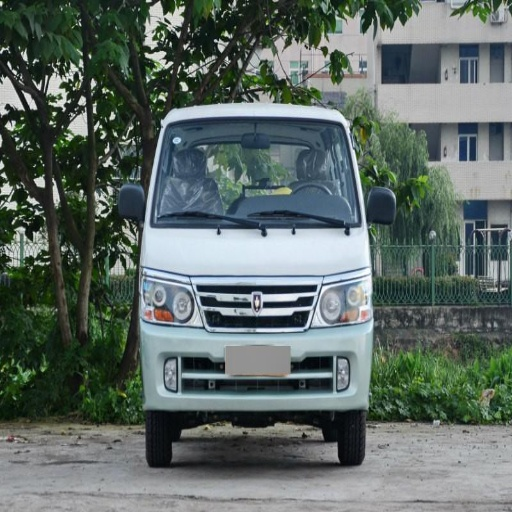front_bumper: (139, 275, 372, 406)
front_right_light: (139, 271, 195, 324)
hood: (143, 226, 368, 275)
